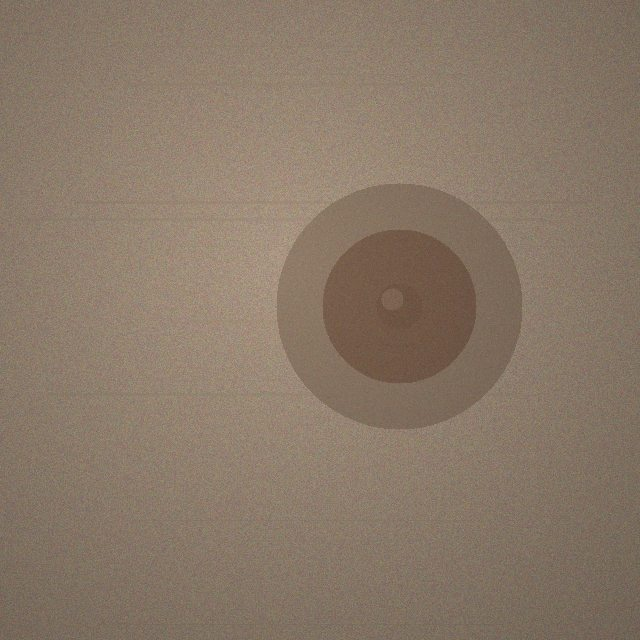good: (276, 183, 522, 429)
